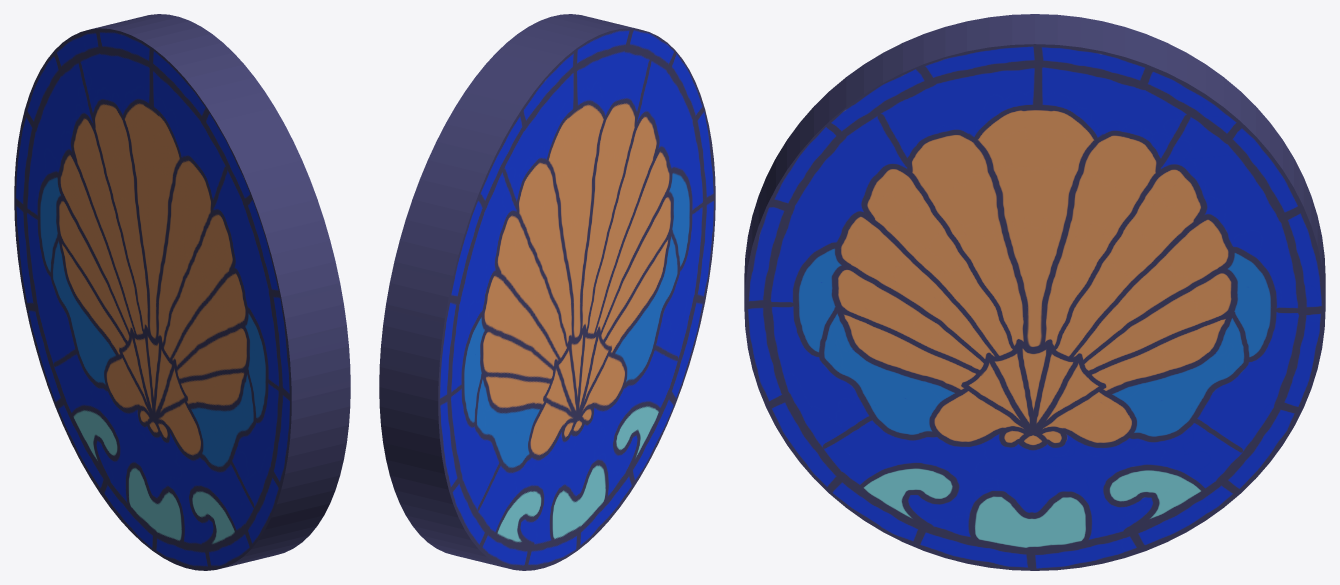
Rendered from circularWindow.obj.
3 views of the same model, side by side, from view 1: azimuth 30°, elevation 25°; view 2: azimuth 150°, elevation 25°; view 3: azimuth 270°, elevation 25° (orthographic). The views are drawn at different scales.
Parts seen in each view (by area): view 1: Grid.002; view 2: Grid.002; view 3: Grid.002.
Part boxes in pixels (x1,y1,x2,y2): Grid.002: (14, 14, 350, 570); Grid.002: (379, 14, 715, 570); Grid.002: (744, 14, 1325, 570).
Size of the model in its own units: 0.2452 by 2 by 2.
1 material, 1 textured.
